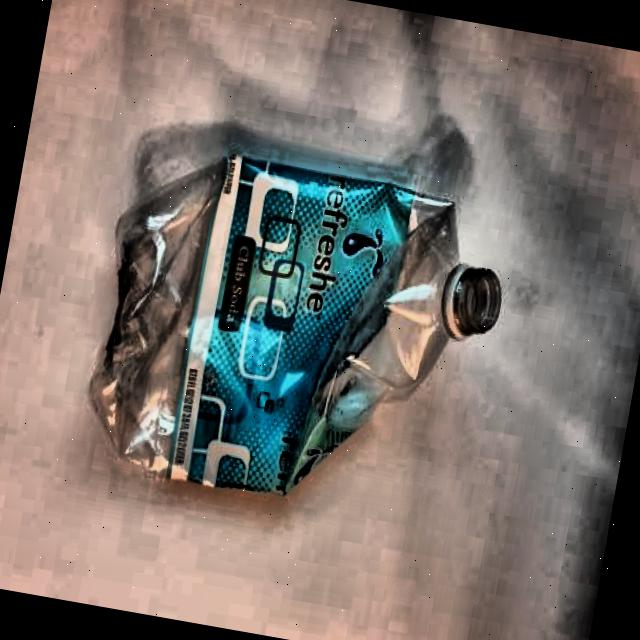plastic: (79, 135, 528, 531)
